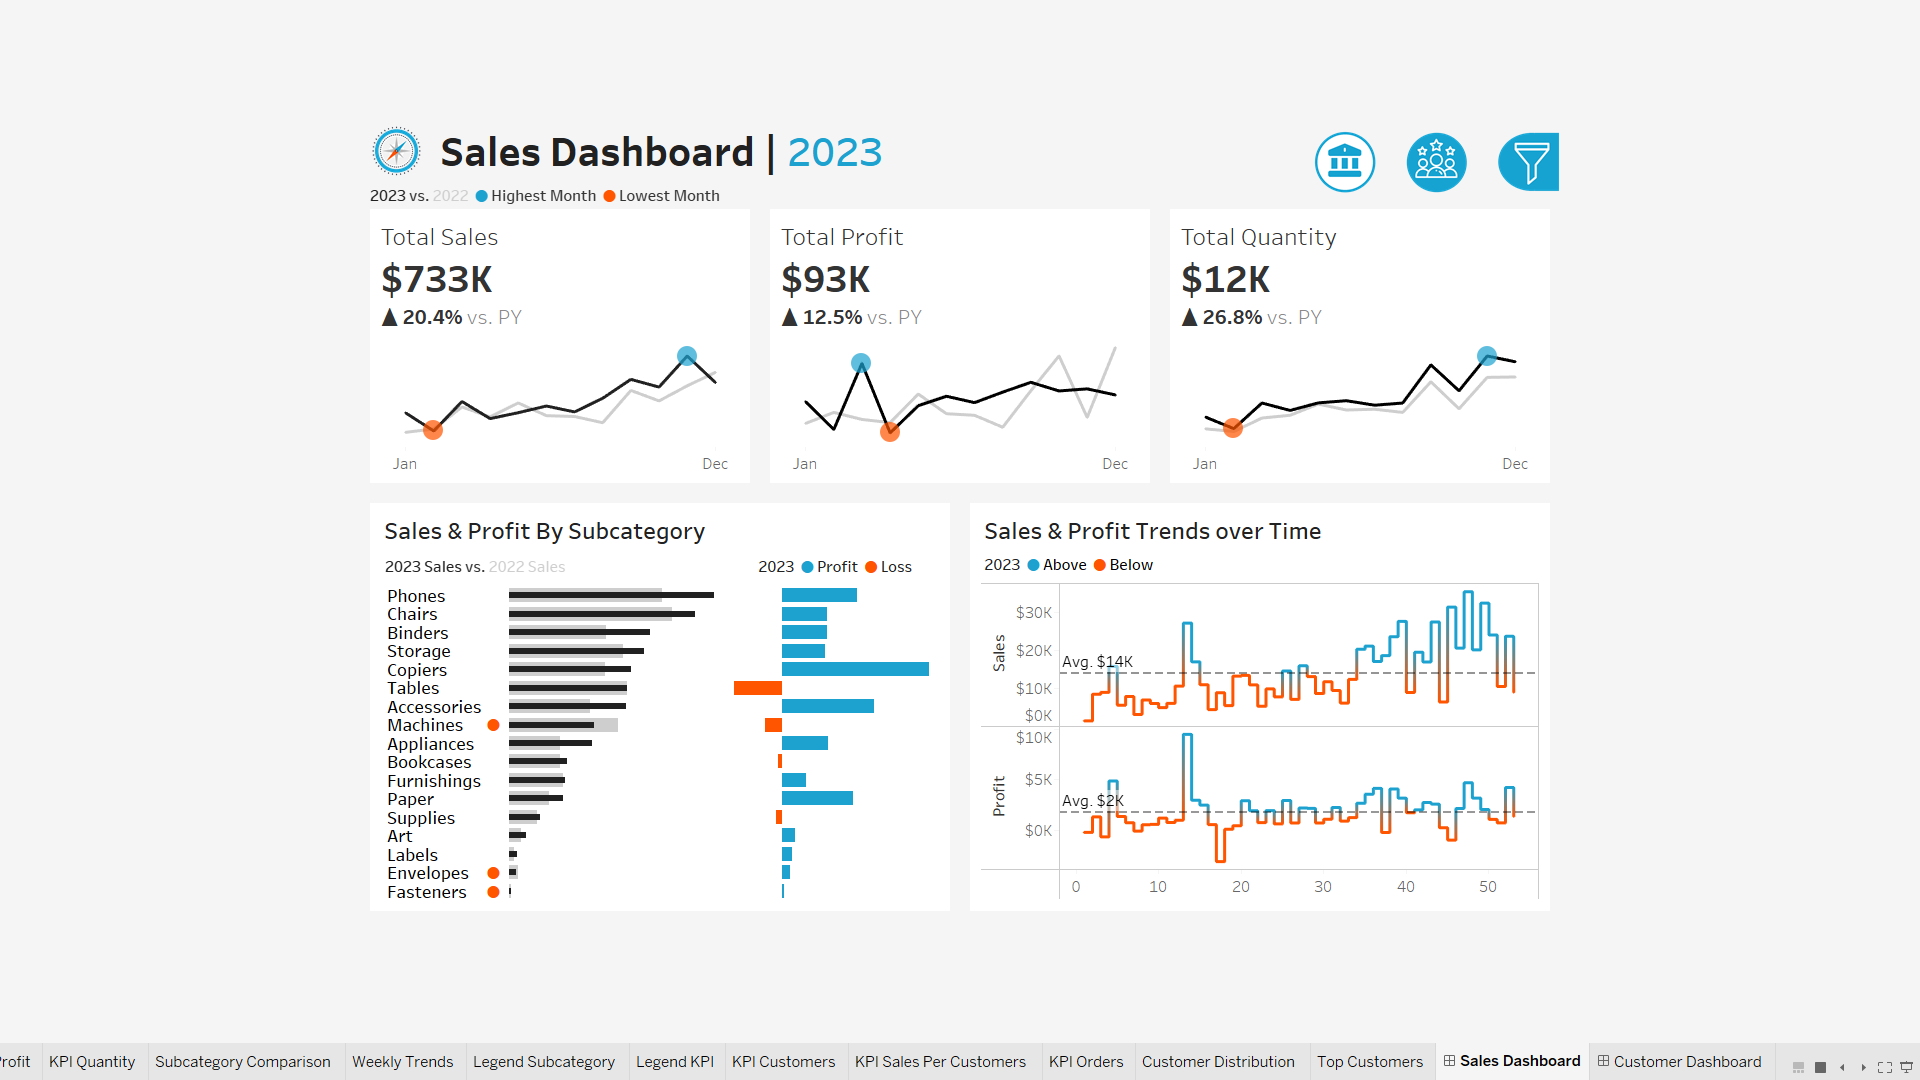

The dashboard page shown, as its layout file describes it:
{"tool":"tableau","page":{"name":"Sales Dashboard","canvas":[1200,800],"ordinal":1},"visuals":[{"type":"image","param":"Image/Icon - Logo.png","box":[0,0,73,59]},{"type":"text","box":[73,0,820,59]},{"type":"dashboard-object","box":[940,6,91,70]},{"type":"dashboard-object","box":[1031,6,91,70]},{"type":"blank","box":[952,10,237,86]},{"type":"worksheet","title":"Legend KPI","mark":"Automatic","box":[0,59,1200,29]},{"type":"worksheet","title":"KPI Sales","mark":"Automatic","rows":["Calculation_721701895347843083"],"cols":["Order Date"],"box":[0,88,400,284]},{"type":"worksheet","title":"KPI Profit","mark":"Automatic","rows":["Min/Max Sales (copy)_237846410425847814"],"cols":["Order Date"],"box":[400,88,400,284]},{"type":"worksheet","title":"KPI Quantity","mark":"Automatic","rows":["Min/Max Sales (copy) (copy)_237846410425856007"],"cols":["Order Date"],"box":[800,88,400,284]},{"type":"text","box":[952,96,237,40]},{"type":"parameter","param":"[Parameters].[Parameter 1]","box":[952,136,237,56]},{"type":"text","box":[952,192,237,33]},{"type":"filter","title":"KPI Sales","param":"[federated.1kpxa041aiai2y1cl4pui1t4eju9].[none:Category:nk]","box":[952,225,237,61]},{"type":"filter","title":"KPI Sales","param":"[federated.1kpxa041aiai2y1cl4pui1t4eju9].[none:Sub-Category:nk]","box":[952,286,237,61]},{"type":"blank","box":[952,347,237,60]},{"type":"text","box":[17,389,566,40]},{"type":"text","box":[617,389,566,40]},{"type":"text","box":[952,407,237,33]},{"type":"worksheet","title":"Legend Subcategory","mark":"Automatic","box":[17,429,374,32]},{"type":"text","box":[391,429,192,32]},{"type":"text","box":[617,429,566,29]},{"type":"filter","title":"KPI Sales","param":"[federated.1kpxa041aiai2y1cl4pui1t4eju9].[none:Region:nk]","box":[952,440,237,61]},{"type":"worksheet","title":"Weekly Trends","mark":"Automatic","rows":["Calculation_721701895334993921","CY Sales (copy)_237846410424180736"],"cols":["Order Date"],"box":[617,458,566,325]},{"type":"worksheet","title":"Subcategory Comparison","mark":"Bar","rows":["Sub-Category","Calculation_2435040078806671369"],"cols":["CY Sales (copy)_721701895335804930","Calculation_721701895334993921","CY Sales (copy)_237846410424180736"],"box":[17,461,566,321.9]},{"type":"filter","title":"KPI Sales","param":"[federated.1kpxa041aiai2y1cl4pui1t4eju9].[none:State:nk]","box":[952,501,237,61]},{"type":"filter","title":"KPI Sales","param":"[federated.1kpxa041aiai2y1cl4pui1t4eju9].[none:City:nk]","box":[952,562,237,61]}]}

Visuals, with their boxes on the page's 1200x800 design canvas (x1, y1, x2, y2). These are canvas units, not pixel positions in the 1920x1080 screenshot, which may show the page scaled, cropped or inside an application window:
image: [left=0, top=0, right=73, bottom=59]
text: [left=73, top=0, right=893, bottom=59]
dashboard-object: [left=940, top=6, right=1031, bottom=76]
dashboard-object: [left=1031, top=6, right=1122, bottom=76]
blank: [left=952, top=10, right=1189, bottom=96]
"Legend KPI" worksheet: [left=0, top=59, right=1200, bottom=88]
"KPI Sales" worksheet: [left=0, top=88, right=400, bottom=372]
"KPI Profit" worksheet: [left=400, top=88, right=800, bottom=372]
"KPI Quantity" worksheet: [left=800, top=88, right=1200, bottom=372]
text: [left=952, top=96, right=1189, bottom=136]
parameter: [left=952, top=136, right=1189, bottom=192]
text: [left=952, top=192, right=1189, bottom=225]
"KPI Sales" filter: [left=952, top=225, right=1189, bottom=286]
"KPI Sales" filter: [left=952, top=286, right=1189, bottom=347]
blank: [left=952, top=347, right=1189, bottom=407]
text: [left=17, top=389, right=583, bottom=429]
text: [left=617, top=389, right=1183, bottom=429]
text: [left=952, top=407, right=1189, bottom=440]
"Legend Subcategory" worksheet: [left=17, top=429, right=391, bottom=461]
text: [left=391, top=429, right=583, bottom=461]
text: [left=617, top=429, right=1183, bottom=458]
"KPI Sales" filter: [left=952, top=440, right=1189, bottom=501]
"Weekly Trends" worksheet: [left=617, top=458, right=1183, bottom=783]
"Subcategory Comparison" worksheet (Bar marks): [left=17, top=461, right=583, bottom=783]
"KPI Sales" filter: [left=952, top=501, right=1189, bottom=562]
"KPI Sales" filter: [left=952, top=562, right=1189, bottom=623]
